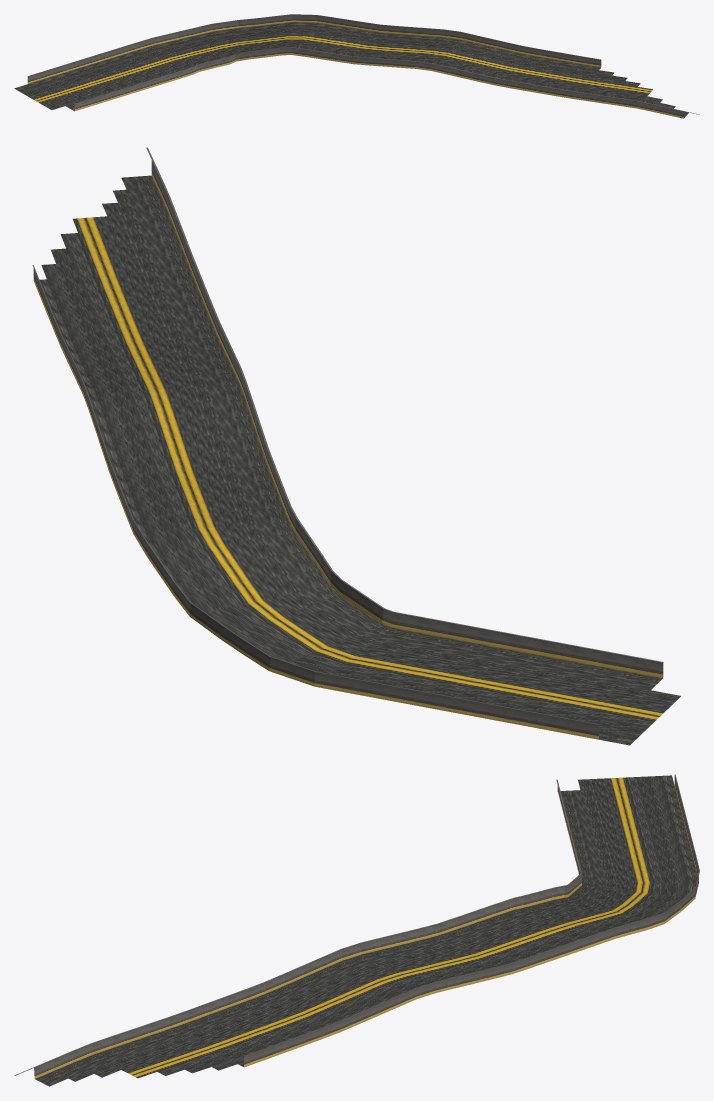
The model's file is road_block_04.obj.
The picture shows the model from 3 angles, top to bottom: view 1: azimuth 30°, elevation 25°; view 2: azimuth 150°, elevation 25°; view 3: azimuth 270°, elevation 25°; orthographic projection. The views are drawn at different scales.
Visible parts, largest first — view 1: Road_display.004_Cube.008; view 2: Road_display.004_Cube.008; view 3: Road_display.004_Cube.008.
Part boxes in pixels (x1,y1,x2,y2): Road_display.004_Cube.008: [14, 14, 699, 118]; Road_display.004_Cube.008: [32, 147, 680, 745]; Road_display.004_Cube.008: [14, 774, 699, 1086].
Bounding box in the file's own units: 98.62 × 6.5 × 85.19.
Materials: 1 (1 with a texture image).
